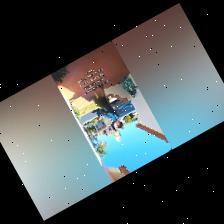person: (89, 84, 123, 129)
